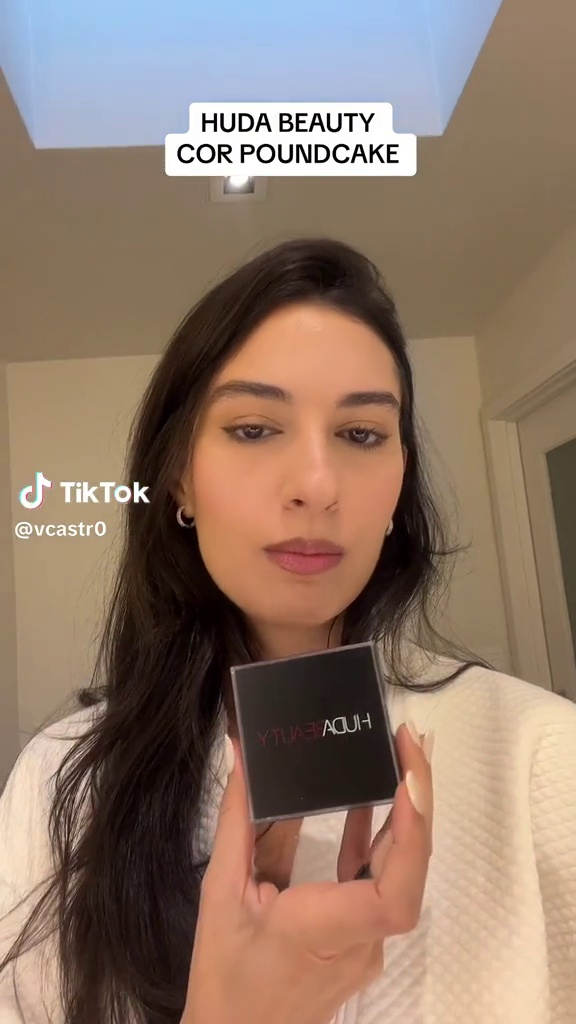train' :'yolo_data/train/images',: (220, 636, 406, 838)
